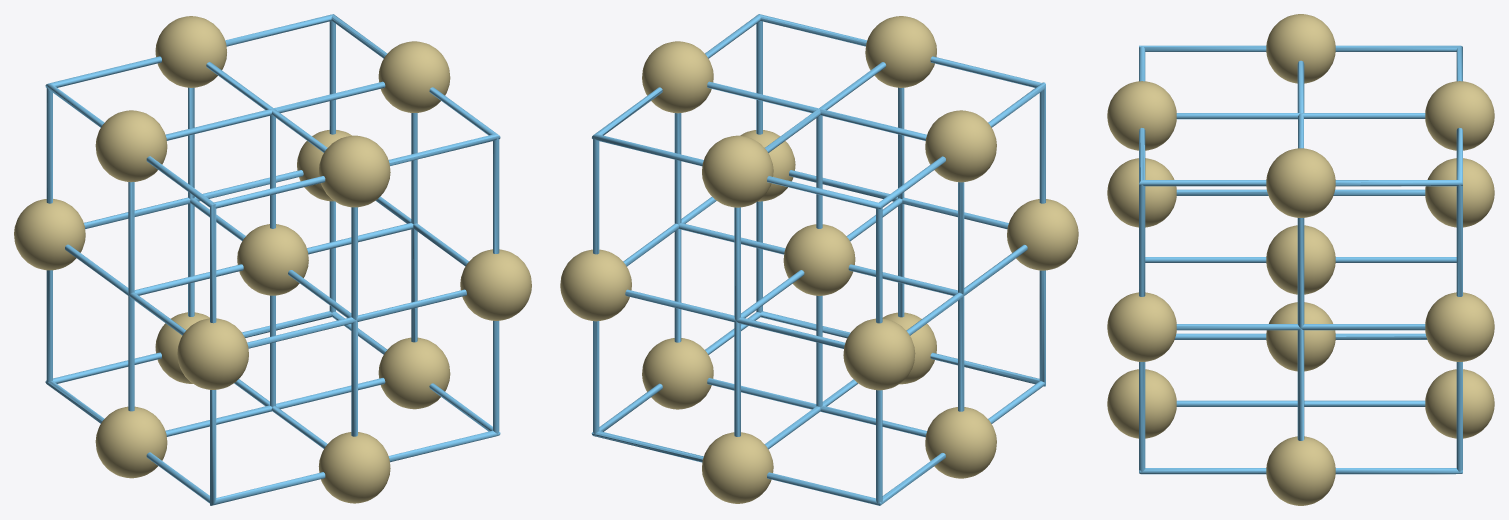
3 views of the same model, side by side, from view 1: azimuth 30°, elevation 25°; view 2: azimuth 150°, elevation 25°; view 3: azimuth 270°, elevation 25° (orthographic). The views are drawn at different scales.
Parts seen in each view (by area): view 1: 图形007, Sphere287, Sphere288, Sphere282, Sphere289, Sphere284, Sphere291, Sphere283, Sphere286, Sphere285, Sphere281, Sphere365 (+2 smaller); view 2: 图形007, Sphere285, Sphere291, Sphere280, Sphere290, Sphere284, Sphere286, Sphere283, Sphere288, Sphere287, Sphere281, Sphere365 (+2 smaller); view 3: 图形007, Sphere286, Sphere280, Sphere289, Sphere281, Sphere287, Sphere285, Sphere284, Sphere365, Sphere282, Sphere290, Sphere288 (+2 smaller).
Part boxes in pixels (box(x1,y1,x2,y2)): 图形007: box(45, 14, 500, 505); Sphere287: box(319, 135, 390, 207); Sphere288: box(177, 318, 248, 389); Sphere282: box(318, 432, 390, 503); Sphere289: box(460, 249, 531, 320); Sphere284: box(95, 110, 167, 182); Sphere291: box(14, 199, 85, 270); Sphere283: box(95, 406, 167, 478); Sphere286: box(378, 41, 450, 112); Sphere285: box(155, 16, 226, 87); Sphere281: box(378, 337, 450, 409); Sphere365: box(237, 224, 308, 295); 图形007: box(591, 14, 1045, 505); Sphere285: box(702, 135, 773, 207); Sphere291: box(843, 318, 915, 390); Sphere280: box(560, 249, 631, 321); Sphere290: box(702, 432, 773, 503); Sphere284: box(925, 110, 996, 182); Sphere286: box(642, 41, 713, 113); Sphere283: box(925, 407, 996, 478); Sphere288: box(1007, 199, 1078, 270); Sphere287: box(865, 16, 936, 87); Sphere281: box(642, 338, 713, 409); Sphere365: box(783, 224, 855, 295); 图形007: box(1139, 45, 1462, 474); Sphere286: box(1266, 148, 1335, 217); Sphere280: box(1425, 292, 1494, 361); Sphere289: box(1107, 292, 1176, 361); Sphere281: box(1266, 436, 1335, 505); Sphere287: box(1107, 81, 1176, 150); Sphere285: box(1425, 81, 1494, 150); Sphere284: box(1266, 14, 1335, 83); Sphere365: box(1266, 225, 1335, 294); Sphere282: box(1107, 369, 1176, 438); Sphere290: box(1425, 369, 1494, 438); Sphere288: box(1107, 158, 1176, 227).
Bounding box in the file's own units: 61 × 61 × 61.
Materials: 1 (1 with a texture image).
